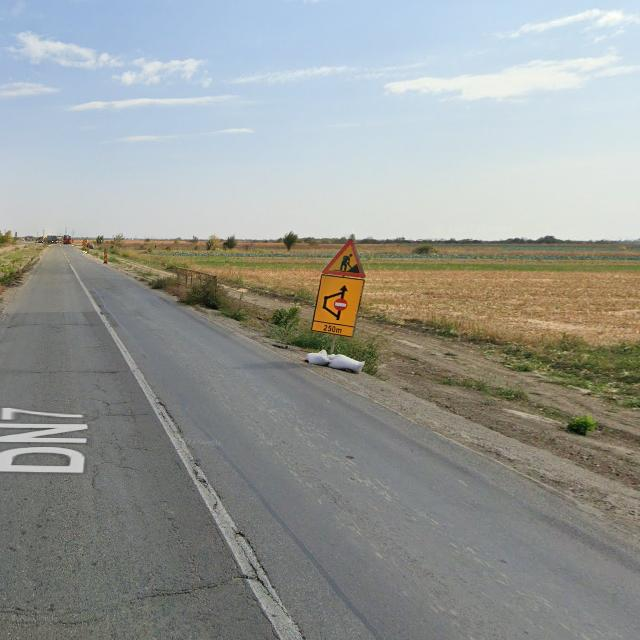forb_ahead: (334, 298, 348, 310)
warn_construction: (320, 238, 365, 278)
